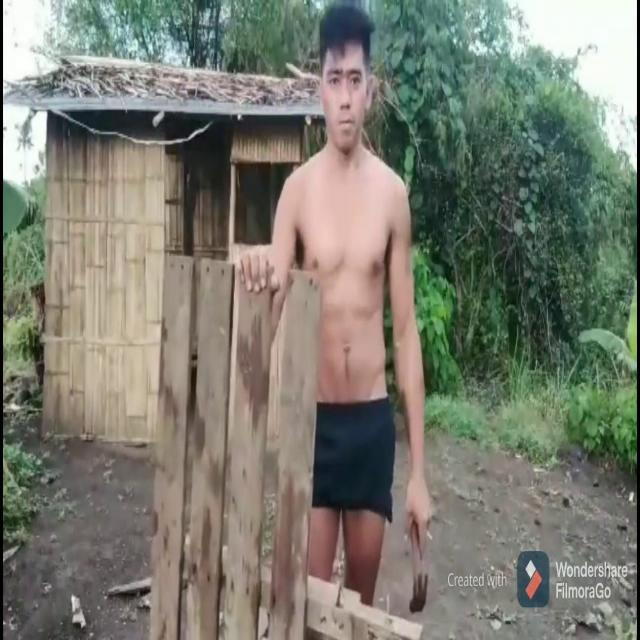hammer: (408, 518, 429, 616)
